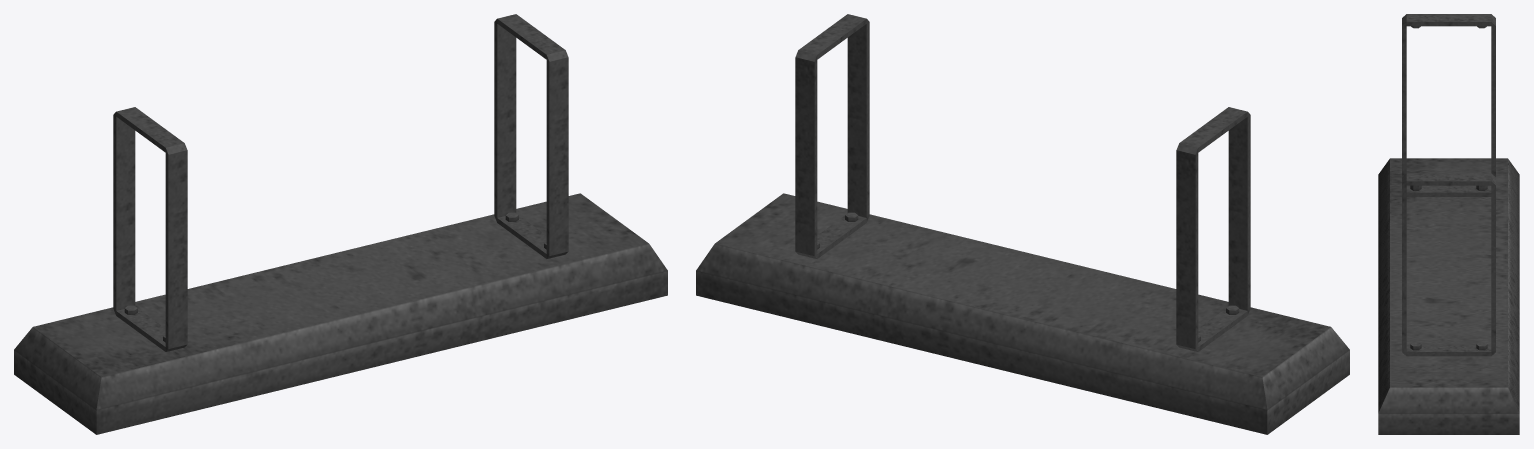
File: ceiling_lamp_4_b_off.dae
The picture shows the model from 3 angles, left to right: view 1: azimuth 30°, elevation 25°; view 2: azimuth 150°, elevation 25°; view 3: azimuth 270°, elevation 25°; orthographic projection. The views are drawn at different scales.
Visible parts, largest first — view 1: ceiling_lamp_4_b_off; view 2: ceiling_lamp_4_b_off; view 3: ceiling_lamp_4_b_off.
Part boxes in pixels (x1,y1,x2,y2): ceiling_lamp_4_b_off: [14, 14, 667, 434]; ceiling_lamp_4_b_off: [696, 14, 1349, 434]; ceiling_lamp_4_b_off: [1378, 14, 1519, 434].
Size of the model in its own units: 1.2 by 0.3 by 0.51.
1 material, 1 textured.
